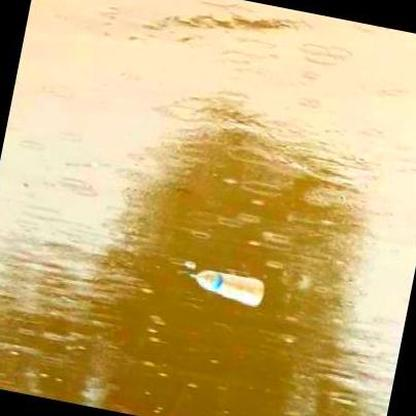plastic bottle: (189, 270, 264, 308)
